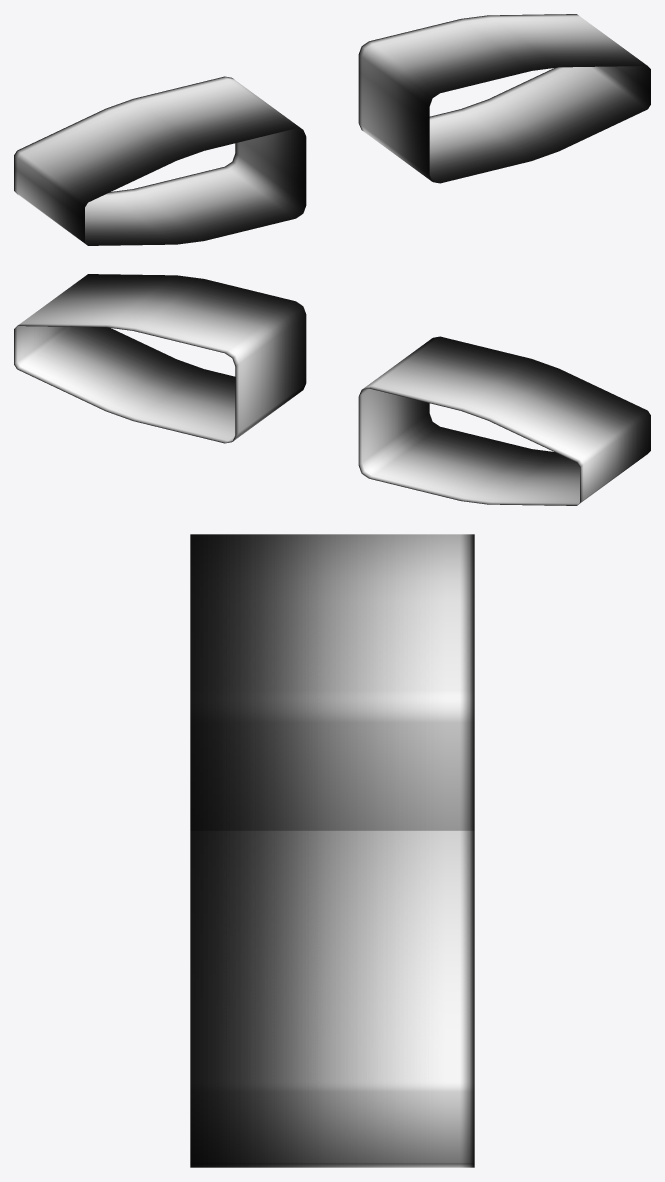
File: ship_fx_01.fbx
3 renders of one model, top to bottom at view 1: azimuth 30°, elevation 25°; view 2: azimuth 150°, elevation 25°; view 3: azimuth 270°, elevation 25°, orthographic. The views are drawn at different scales.
Parts seen in each view (by area): view 1: ship_fx_01; view 2: ship_fx_01; view 3: ship_fx_01.
Part boxes in pixels (<box>): ship_fx_01: <box>14,14,650,245</box>; ship_fx_01: <box>14,274,650,505</box>; ship_fx_01: <box>190,534,474,1167</box>.
Bounding box in the file's own units: 919 × 140 × 200.
1 material, 1 textured.
